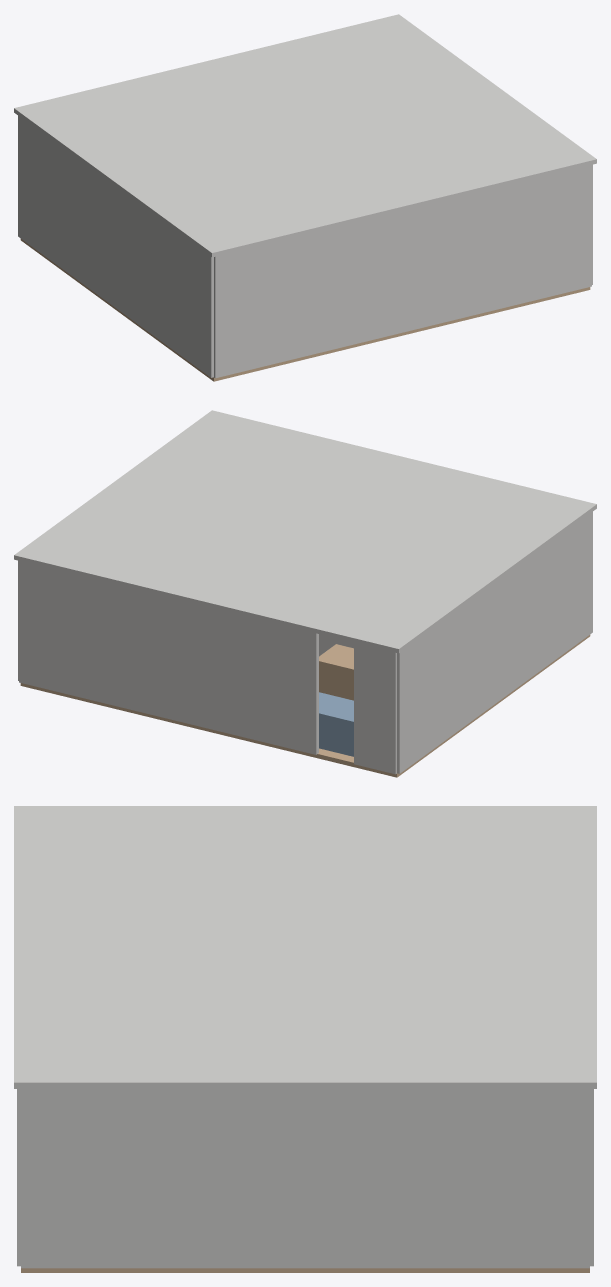
File: unit-3bhk.glb
3 views of the same model, one above another, from view 1: azimuth 30°, elevation 25°; view 2: azimuth 150°, elevation 25°; view 3: azimuth 270°, elevation 25° (orthographic). The views are drawn at different scales.
Visible parts, largest first — view 1: Ceiling, Wall_S, Wall_W, Floor_Interior; view 2: Ceiling, Wall_N (×2), Wall_W, Floor_Interior, Furniture_Sofa, Furniture_DiningTable; view 3: Ceiling, Wall_E, Floor_Interior, Wall_N, Wall_S.
Boxes of the visible parts, <box> form: Ceiling: <box>14,14,596,257</box>; Wall_S: <box>214,165,591,378</box>; Wall_W: <box>18,116,213,377</box>; Floor_Interior: <box>20,239,590,381</box>; Ceiling: <box>14,410,596,653</box>; Wall_N (×2): <box>19,561,396,774</box>; Wall_W: <box>397,512,592,773</box>; Floor_Interior: <box>20,635,590,777</box>; Furniture_Sofa: <box>319,692,353,756</box>; Furniture_DiningTable: <box>319,644,353,700</box>; Ceiling: <box>14,806,596,1088</box>; Wall_E: <box>21,1089,589,1268</box>; Floor_Interior: <box>21,1268,589,1272</box>; Wall_N: <box>590,1089,593,1266</box>; Wall_S: <box>17,1089,20,1266</box>.
Bounding box in the file's own units: 9.2 × 3 × 8.2.
